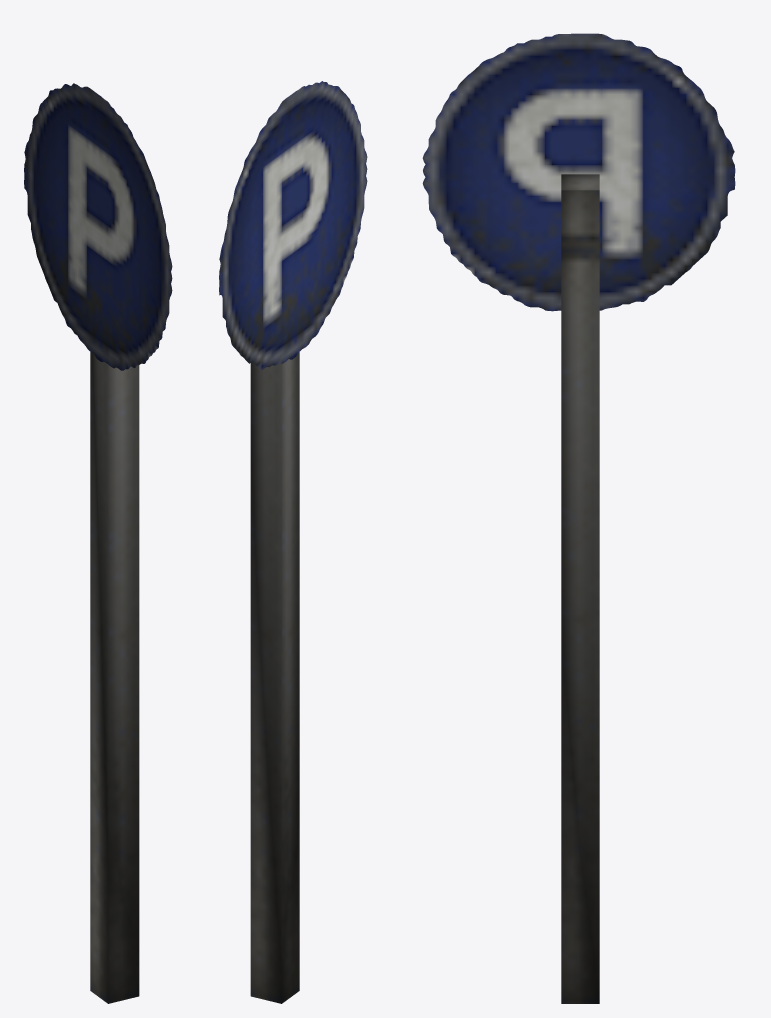
Rendered from roadsign5.fbx.
3 views of the same model, side by side, from view 1: azimuth 30°, elevation 25°; view 2: azimuth 150°, elevation 25°; view 3: azimuth 270°, elevation 25° (orthographic). The views are drawn at different scales.
Parts seen in each view (by area): view 1: roadsign5; view 2: roadsign5; view 3: roadsign5.
Part boxes in pixels (x1=…): roadsign5: x1=24, y1=83, x2=172, y2=1003; roadsign5: x1=219, y1=81, x2=367, y2=1003; roadsign5: x1=422, y1=33, x2=735, y2=1003.
Size of the model in its own units: 11.4 by 100 by 305.
1 material, 1 textured.
